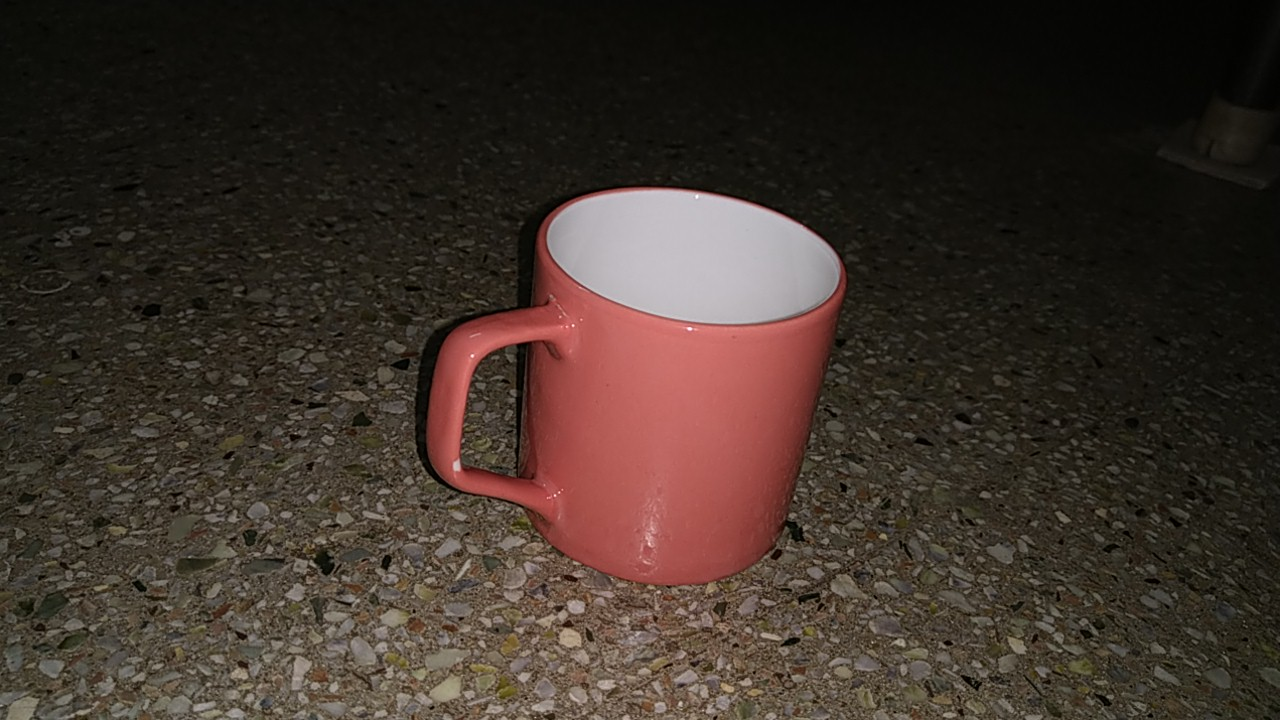cup: (407, 177, 865, 602)
